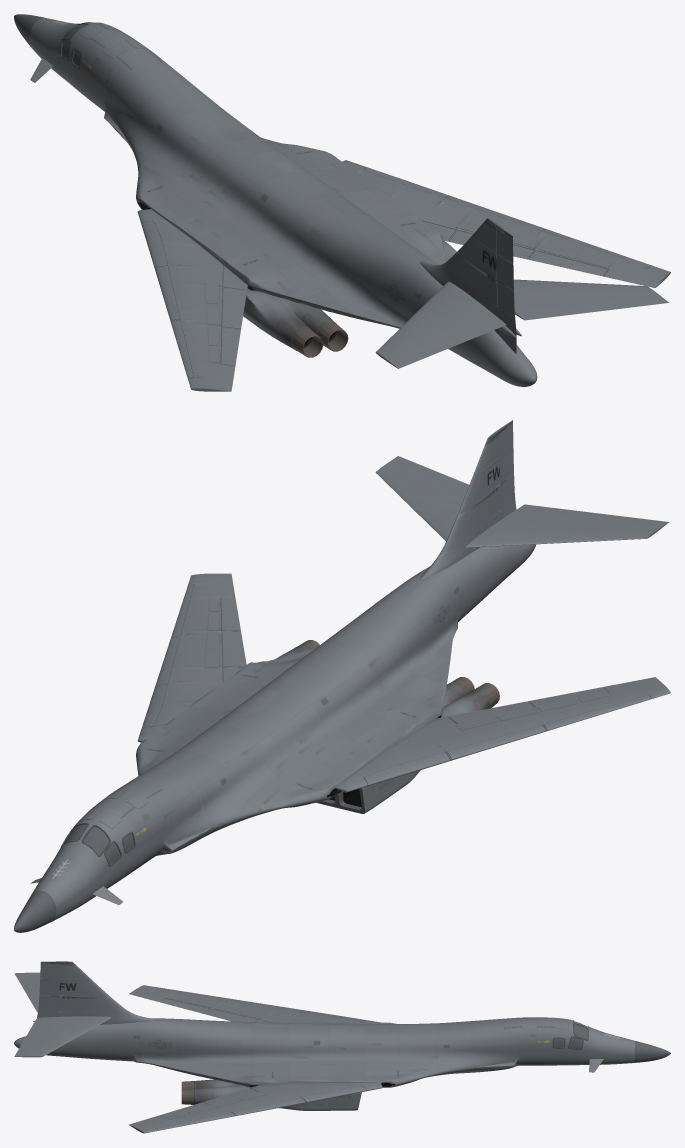
3 views of the same model, one above another, from view 1: azimuth 30°, elevation 25°; view 2: azimuth 150°, elevation 25°; view 3: azimuth 270°, elevation 25° (orthographic). The views are drawn at different scales.
Parts seen in each view (by area): view 1: B1_skin, wing_l, wing_r, stab_l, stab_r, fin, nozzles, flap2_l, flap3_r, slat1_l, slat2_l, flap3_l; view 2: B1_skin, wing_l, wing_r, stab_l, fin, stab_r, slat1_l, canopy_glass, slat2_l, flap2_r; view 3: B1_skin, fin, wing_r, wing_l, stab_r, stab_l, slat1_r, slat2_r, canopy_glass, nozzles, flap2_l, rudder1 (+5 smaller).
Part boxes in pixels (<box>): B1_skin: <box>14,14,537,386</box>; wing_l: <box>137,209,246,391</box>; wing_r: <box>342,160,670,287</box>; stab_l: <box>375,281,506,368</box>; stab_r: <box>513,279,668,320</box>; fin: <box>420,218,516,353</box>; nozzles: <box>290,320,348,357</box>; flap2_l: <box>221,287,246,328</box>; flap3_r: <box>529,251,607,276</box>; slat1_l: <box>141,221,167,267</box>; slat2_l: <box>155,266,179,320</box>; flap3_l: <box>220,327,240,365</box>; B1_skin: <box>14,544,536,932</box>; wing_l: <box>335,677,670,792</box>; wing_r: <box>137,573,243,742</box>; stab_l: <box>466,504,668,547</box>; fin: <box>420,420,516,579</box>; stab_r: <box>375,456,469,541</box>; slat1_l: <box>363,752,449,785</box>; canopy_glass: <box>63,824,133,864</box>; slat2_l: <box>446,725,545,760</box>; flap2_r: <box>221,631,246,666</box>; B1_skin: <box>14,1017,670,1110</box>; fin: <box>37,961,156,1024</box>; wing_r: <box>129,1082,382,1133</box>; wing_l: <box>129,985,380,1022</box>; stab_r: <box>14,1016,111,1057</box>; stab_l: <box>14,972,40,1012</box>; slat1_r: <box>302,1086,366,1102</box>; slat2_r: <box>232,1097,305,1115</box>; canopy_glass: <box>553,1021,587,1048</box>; nozzles: <box>181,1081,195,1104</box>; flap2_l: <box>204,1009,258,1022</box>; rudder1: <box>38,996,59,1012</box>.
Size of the model in its own units: 23.73 by 8.78 by 44.52.
2 materials, 1 textured.
